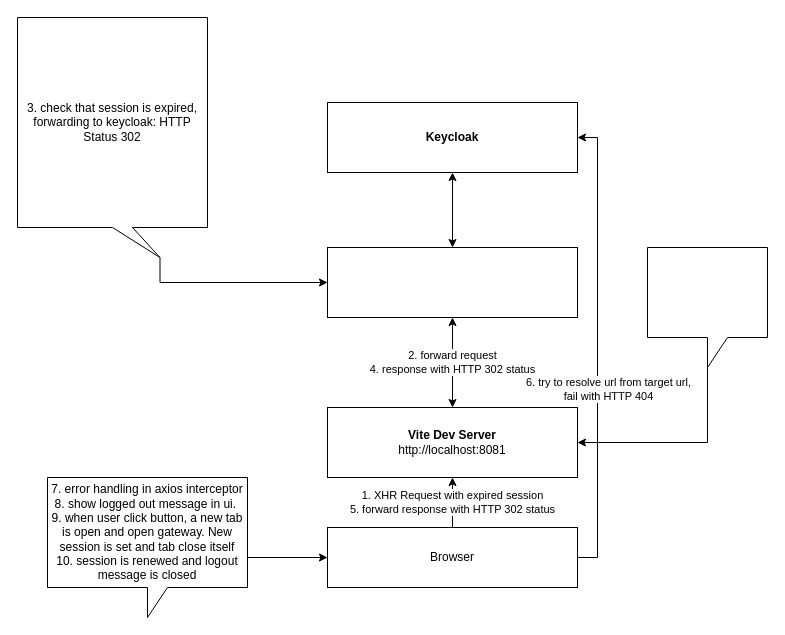
Some shapes in this 785 by 635 pixel diagram are drawn without their labels. Each missing label, with the centre of its shape:
API Gateway http://localhost:8082 Active Profiles: local, internal: pixel 452 282
has configured vite proxy. forwards all requests with path /api/* to apigateway: pixel 707 307
